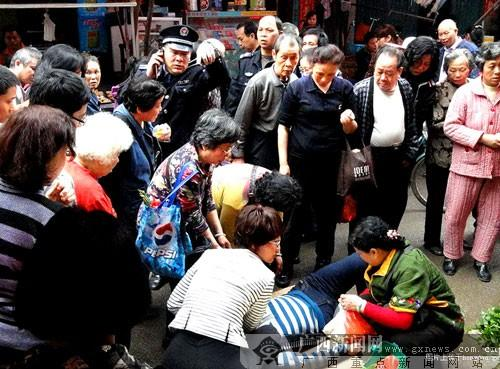10+: (1, 8, 499, 368)
down: (242, 248, 389, 368)
